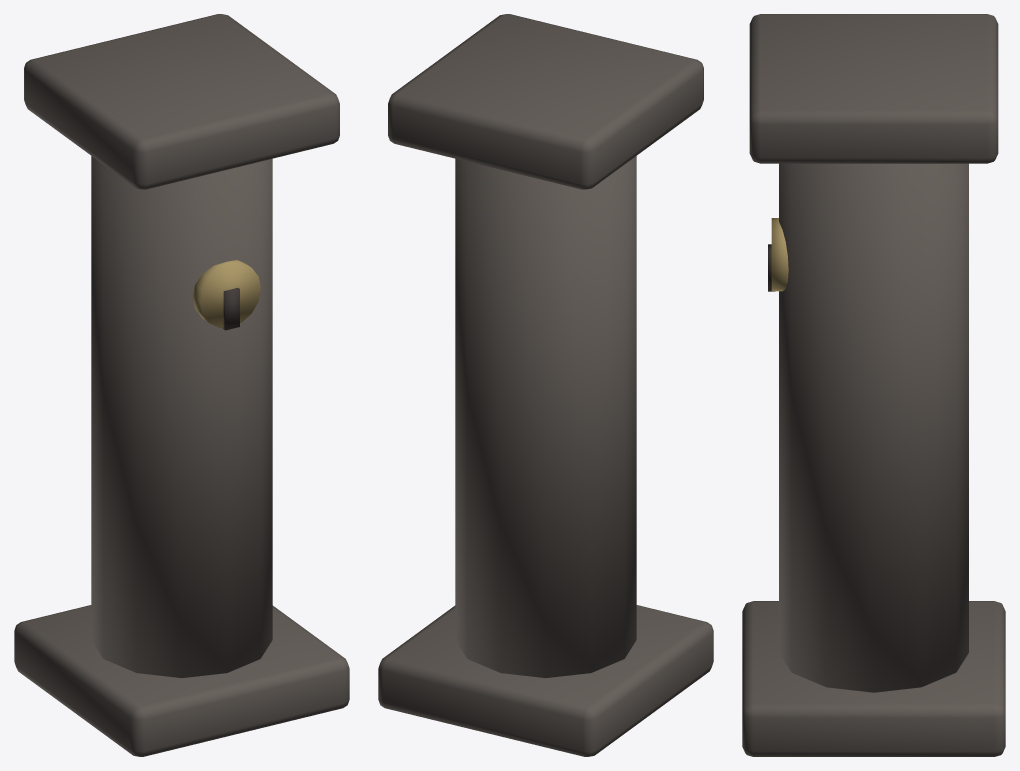
Rendered from key_pillar.glb.
3 views of the same model, side by side, from view 1: azimuth 30°, elevation 25°; view 2: azimuth 150°, elevation 25°; view 3: azimuth 270°, elevation 25° (orthographic). The views are drawn at different scales.
Visible parts, largest first — view 1: Shaft, Cap, Foot, Lock, Slot; view 2: Shaft, Cap, Foot; view 3: Shaft, Cap, Foot, Lock.
Part boxes in pixels (left/top/right/bottom): Shaft: left=91, top=156, right=272, bottom=677; Cap: left=24, top=14, right=339, bottom=189; Foot: left=14, top=605, right=349, bottom=756; Lock: left=192, top=260, right=260, bottom=327; Slot: left=222, top=288, right=239, bottom=330; Shaft: left=455, top=156, right=636, bottom=677; Cap: left=388, top=14, right=703, bottom=189; Foot: left=378, top=605, right=713, bottom=756; Shaft: left=779, top=163, right=968, bottom=692; Cap: left=749, top=14, right=998, bottom=163; Foot: left=742, top=601, right=1005, bottom=756; Lock: left=771, top=218, right=788, bottom=291.
Size of the model in its own units: 0.36 by 0.97 by 0.36.
